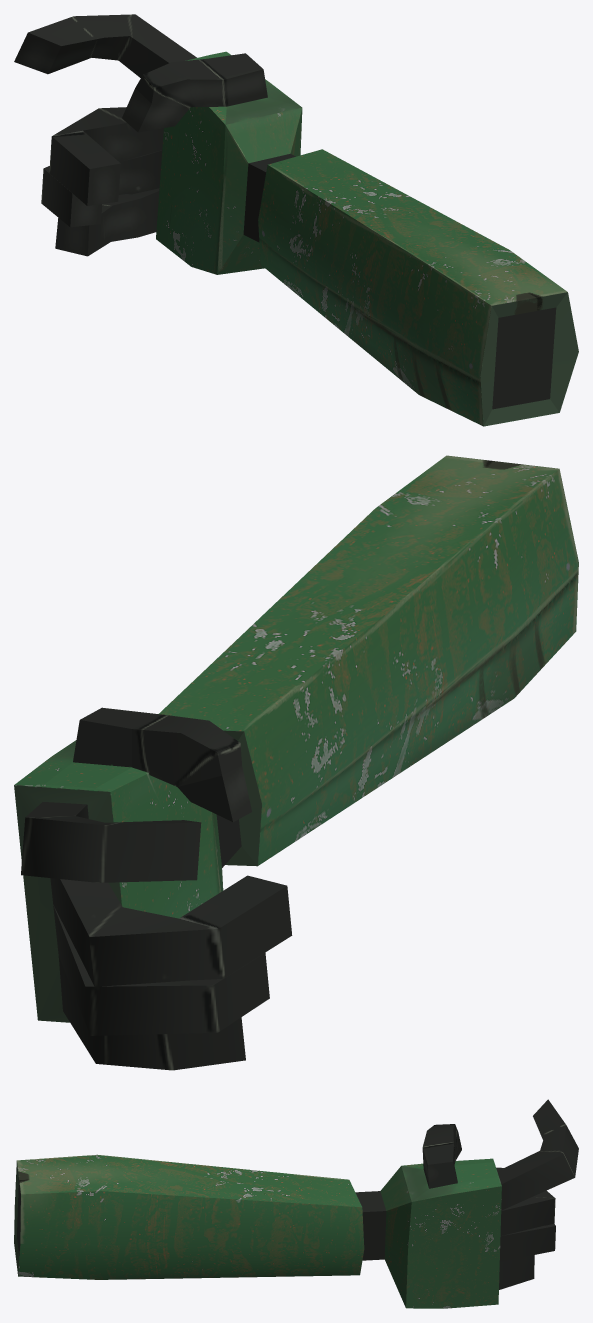
File: JUST_Forearm.fbx
3 renders of one model, top to bottom at view 1: azimuth 30°, elevation 25°; view 2: azimuth 150°, elevation 25°; view 3: azimuth 270°, elevation 25°, orthographic. The views are drawn at different scales.
Parts seen in each view (by area): view 1: Arm9; view 2: Arm9; view 3: Arm9.
Boxes of the visible parts, box(x1,y1,x2,y2) form: Arm9: box(14, 14, 578, 426); Arm9: box(14, 455, 578, 1070); Arm9: box(14, 1099, 578, 1308).
Size of the model in its own units: 0.1231 by 0.1231 by 0.4159.
Materials: 1 (1 with a texture image).
